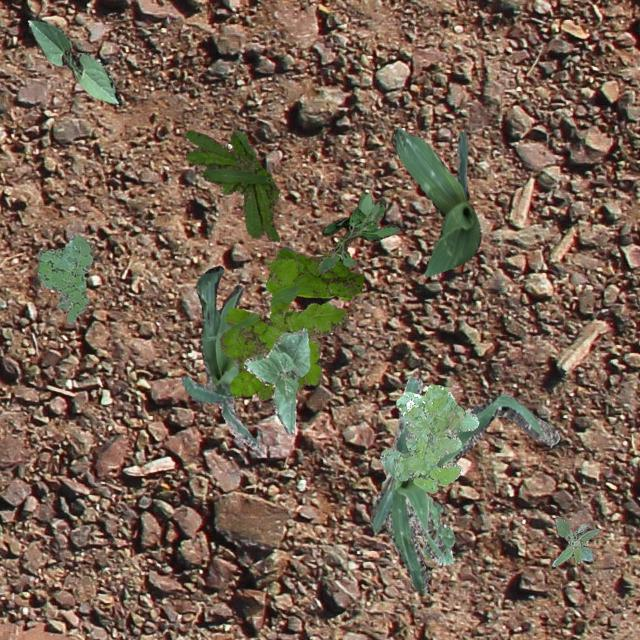crop: (370, 376, 558, 592), (180, 264, 260, 452), (392, 127, 479, 276), (27, 17, 118, 104), (242, 326, 308, 432), (422, 496, 454, 564)
weed: (218, 258, 348, 400), (380, 382, 478, 492), (184, 128, 278, 240), (317, 192, 398, 272), (34, 232, 92, 322), (267, 246, 363, 298), (550, 516, 598, 566)
